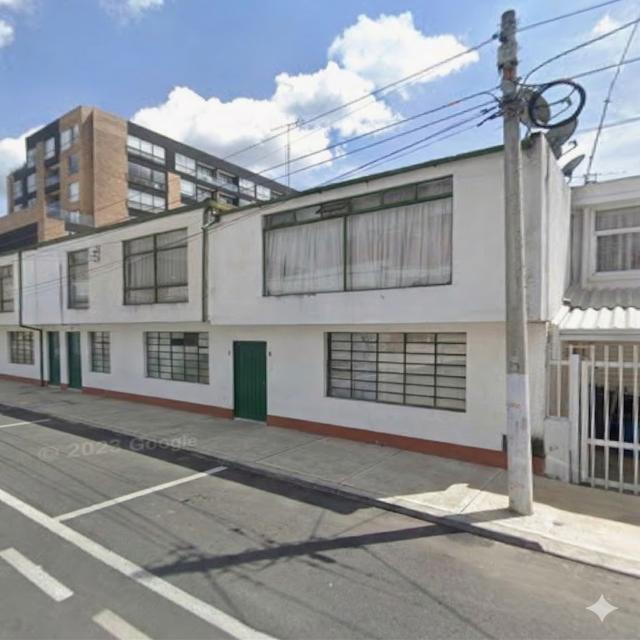fachada: (0, 107, 290, 250), (524, 136, 639, 479)
poste: (498, 10, 532, 514)
